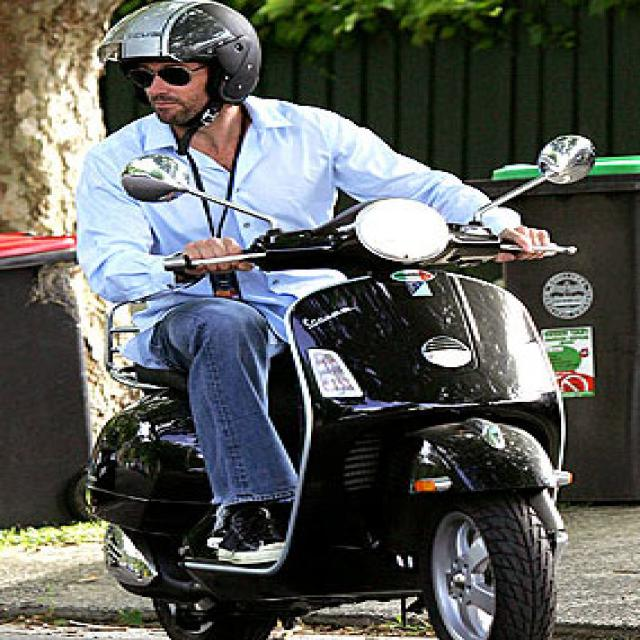helmet: (88, 6, 288, 114)
